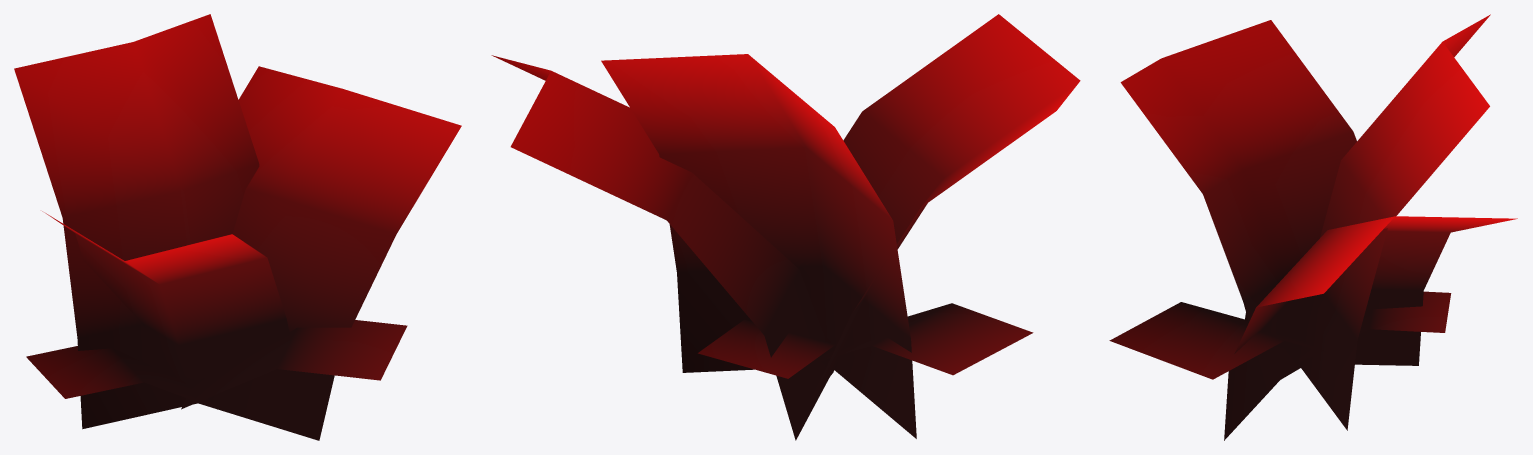
The model's file is SM_Bush2.fbx.
The picture shows the model from 3 angles, left to right: view 1: azimuth 30°, elevation 25°; view 2: azimuth 150°, elevation 25°; view 3: azimuth 270°, elevation 25°; orthographic projection. The views are drawn at different scales.
Visible parts, largest first — view 1: Bush2; view 2: Bush2; view 3: Bush2.
Part boxes in pixels (bbox=[...]): Bush2: bbox=[14, 14, 461, 440]; Bush2: bbox=[491, 14, 1080, 440]; Bush2: bbox=[1109, 14, 1517, 440].
Bounding box in the file's own units: 0.4103 × 0.3002 × 0.3112.
